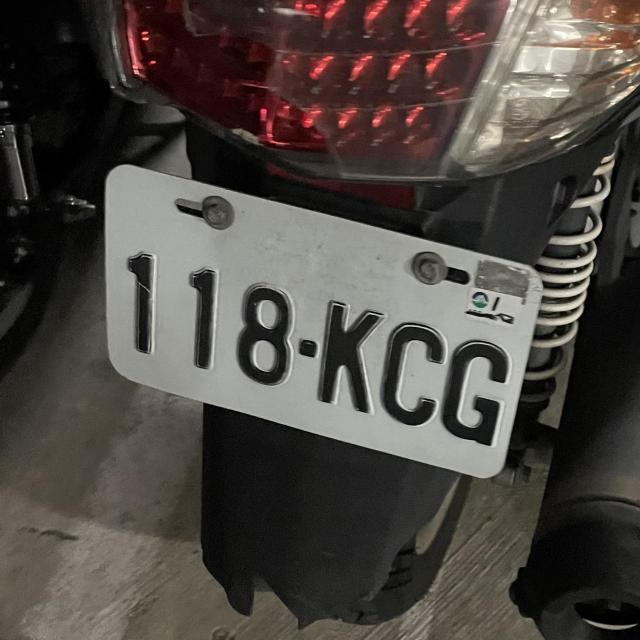W: (104, 160, 549, 485)
